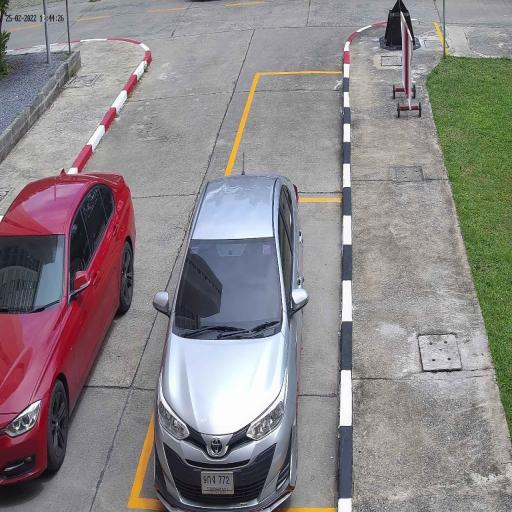car: (154, 177, 304, 509), (0, 171, 135, 486)
